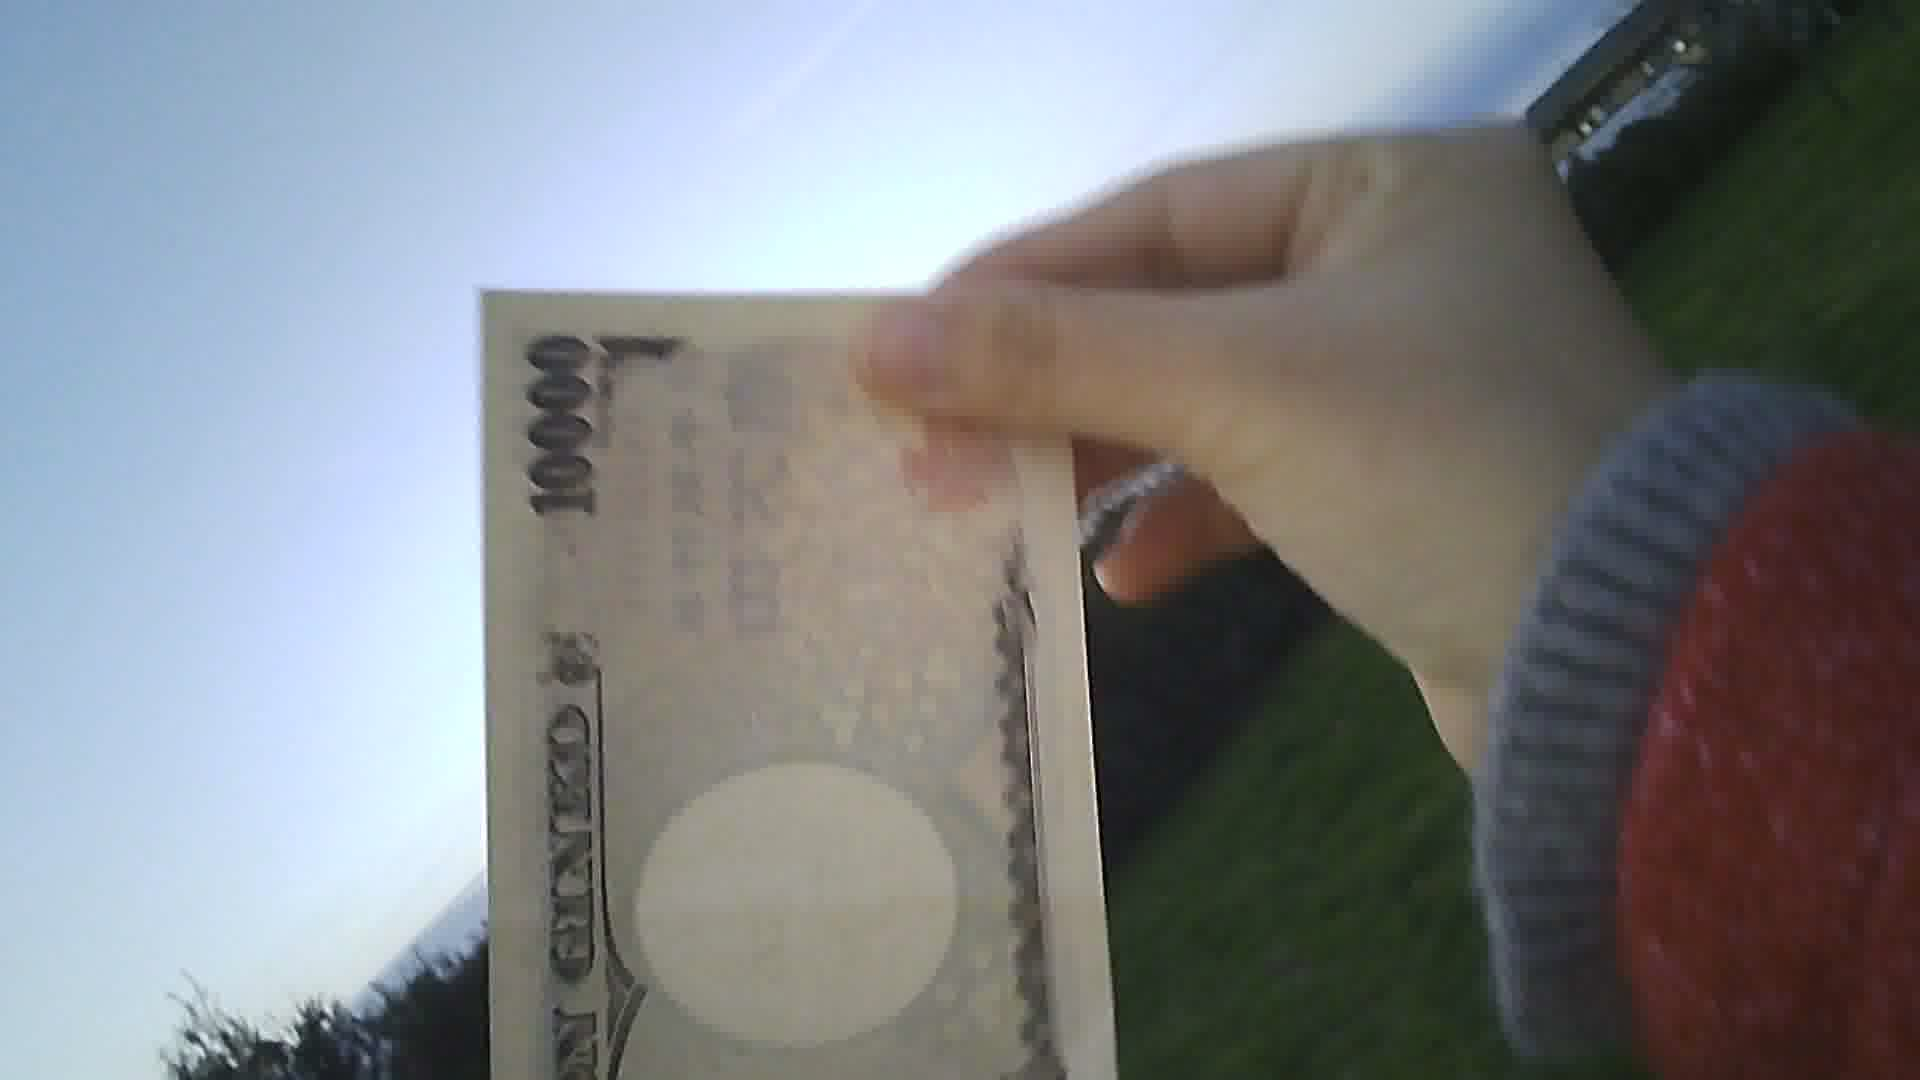10,000 Yen: (459, 261, 1149, 1068)
